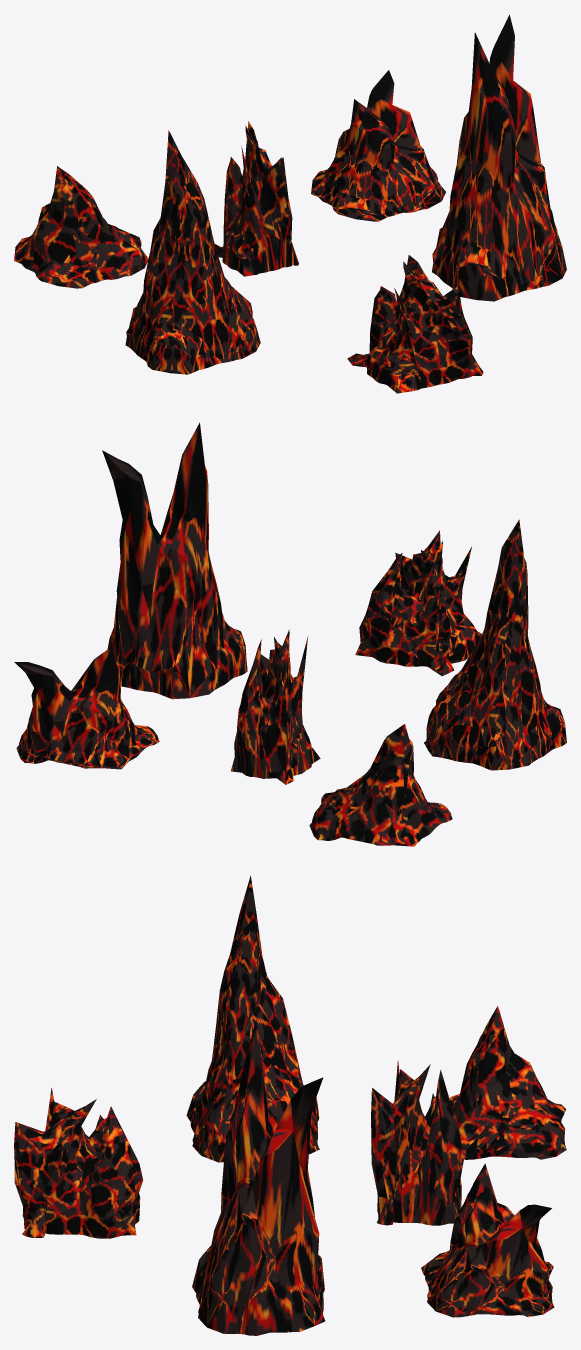
The model's file is UpwardsRockThings.fbx.
3 views of the same model, one above another, from view 1: azimuth 30°, elevation 25°; view 2: azimuth 150°, elevation 25°; view 3: azimuth 270°, elevation 25° (orthographic). The views are drawn at different scales.
Visible parts, largest first — view 1: AsterionRock.002, AsterionRock, AsterionRock.005, AsterionRock.001, AsterionRock.004, AsterionRock.003; view 2: AsterionRock.002, AsterionRock, AsterionRock.001, AsterionRock.005, AsterionRock.004, AsterionRock.003; view 3: AsterionRock.002, AsterionRock.001, AsterionRock, AsterionRock.005, AsterionRock.003, AsterionRock.004.
Part boxes in pixels (x1,y1,x2,y2): AsterionRock.002: [432, 15, 566, 301]; AsterionRock: [125, 130, 260, 374]; AsterionRock.005: [311, 70, 445, 221]; AsterionRock.001: [347, 255, 483, 393]; AsterionRock.004: [14, 166, 148, 288]; AsterionRock.003: [214, 121, 298, 276]; AsterionRock.002: [102, 422, 247, 699]; AsterionRock: [424, 519, 566, 770]; AsterionRock.001: [355, 530, 481, 676]; AsterionRock.005: [14, 646, 159, 769]; AsterionRock.004: [309, 724, 452, 846]; AsterionRock.003: [231, 629, 320, 784]; AsterionRock.002: [192, 1020, 325, 1335]; AsterionRock.001: [14, 1088, 142, 1238]; AsterionRock: [186, 875, 319, 1162]; AsterionRock.005: [421, 1163, 554, 1317]; AsterionRock.003: [371, 1060, 463, 1225]; AsterionRock.004: [449, 1006, 566, 1159].
Size of the model in its own units: 19.54 by 10.92 by 20.02.
